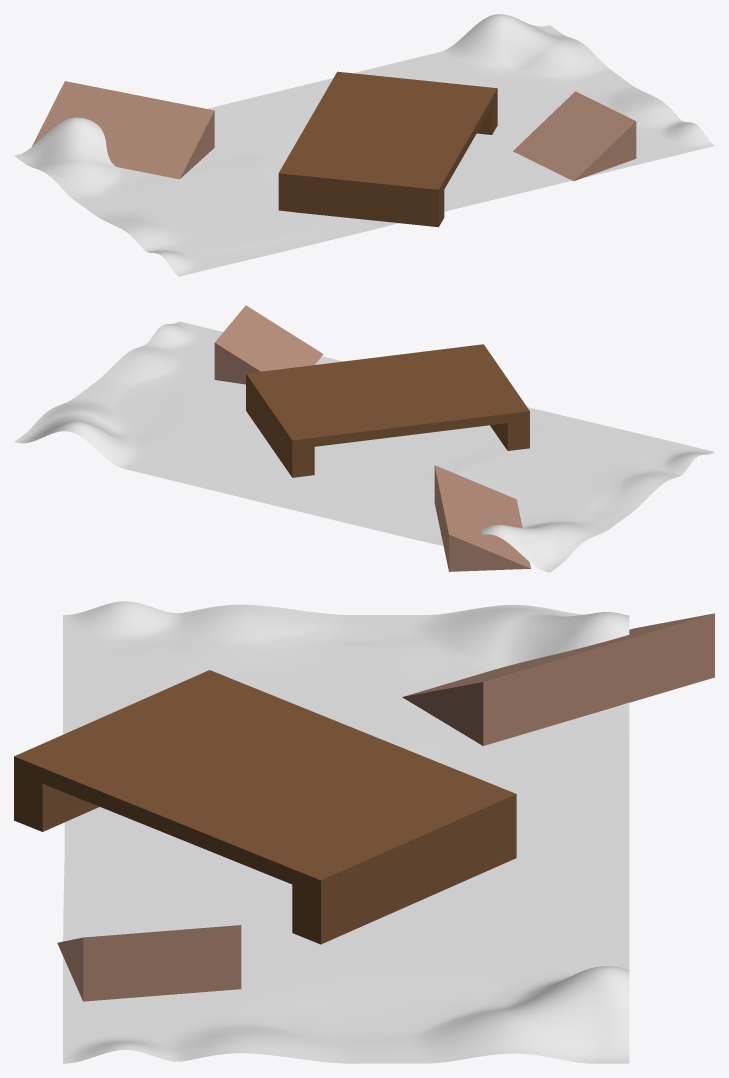
The model's file is ice2.fbx.
The picture shows the model from 3 angles, top to bottom: view 1: azimuth 30°, elevation 25°; view 2: azimuth 150°, elevation 25°; view 3: azimuth 270°, elevation 25°; orthographic projection. The views are drawn at different scales.
Visible parts, largest first — view 1: minecraft terrain.001, Plane, ramp1, ramp2; view 2: minecraft terrain.001, Plane, ramp1, ramp2; view 3: minecraft terrain.001, Plane, ramp1, ramp2.
Part boxes in pixels (x1,y1,x2,y2): minecraft terrain.001: (14, 14, 714, 276); Plane: (278, 71, 497, 227); ramp1: (32, 81, 214, 179); ramp2: (513, 91, 636, 181); minecraft terrain.001: (14, 321, 714, 572); Plane: (246, 344, 529, 477); ramp1: (434, 465, 530, 571); ramp2: (214, 305, 323, 384); minecraft terrain.001: (63, 601, 629, 1063); Plane: (14, 670, 516, 944); ramp1: (402, 613, 714, 745); ramp2: (57, 925, 241, 1001).
Bounding box in the file's own units: 300 × 21.23 × 198.
